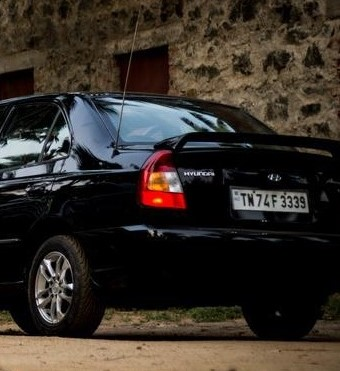TN74F3339: (231, 187, 310, 212)
